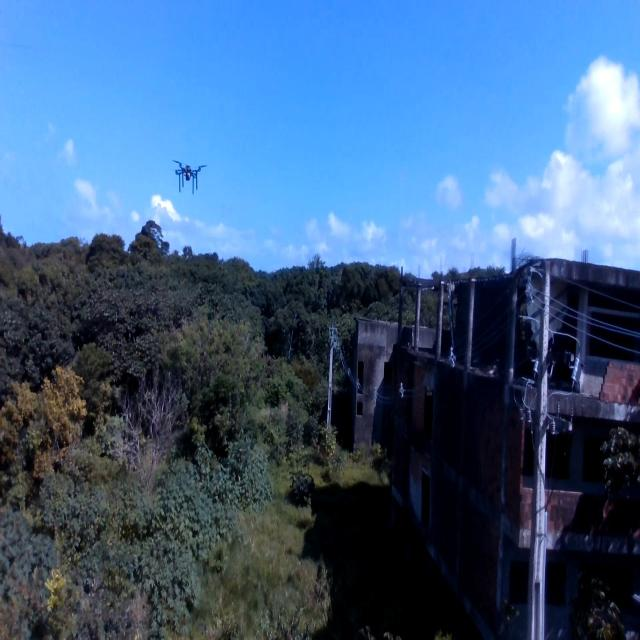-uav-: (168, 145, 206, 205)
